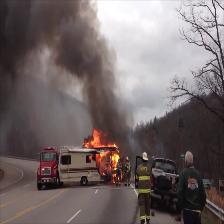fire: (80, 125, 121, 184)
smoke: (3, 0, 87, 57), (84, 77, 114, 120)
